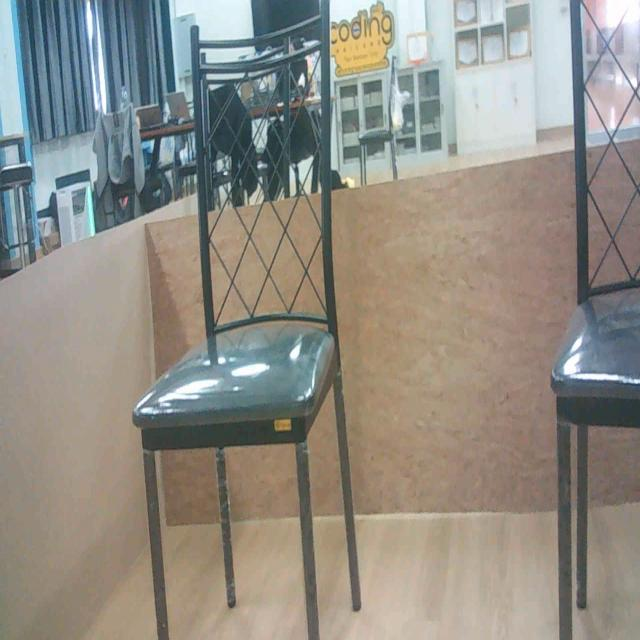emtpy: (129, 44, 331, 640), (531, 0, 640, 640)
